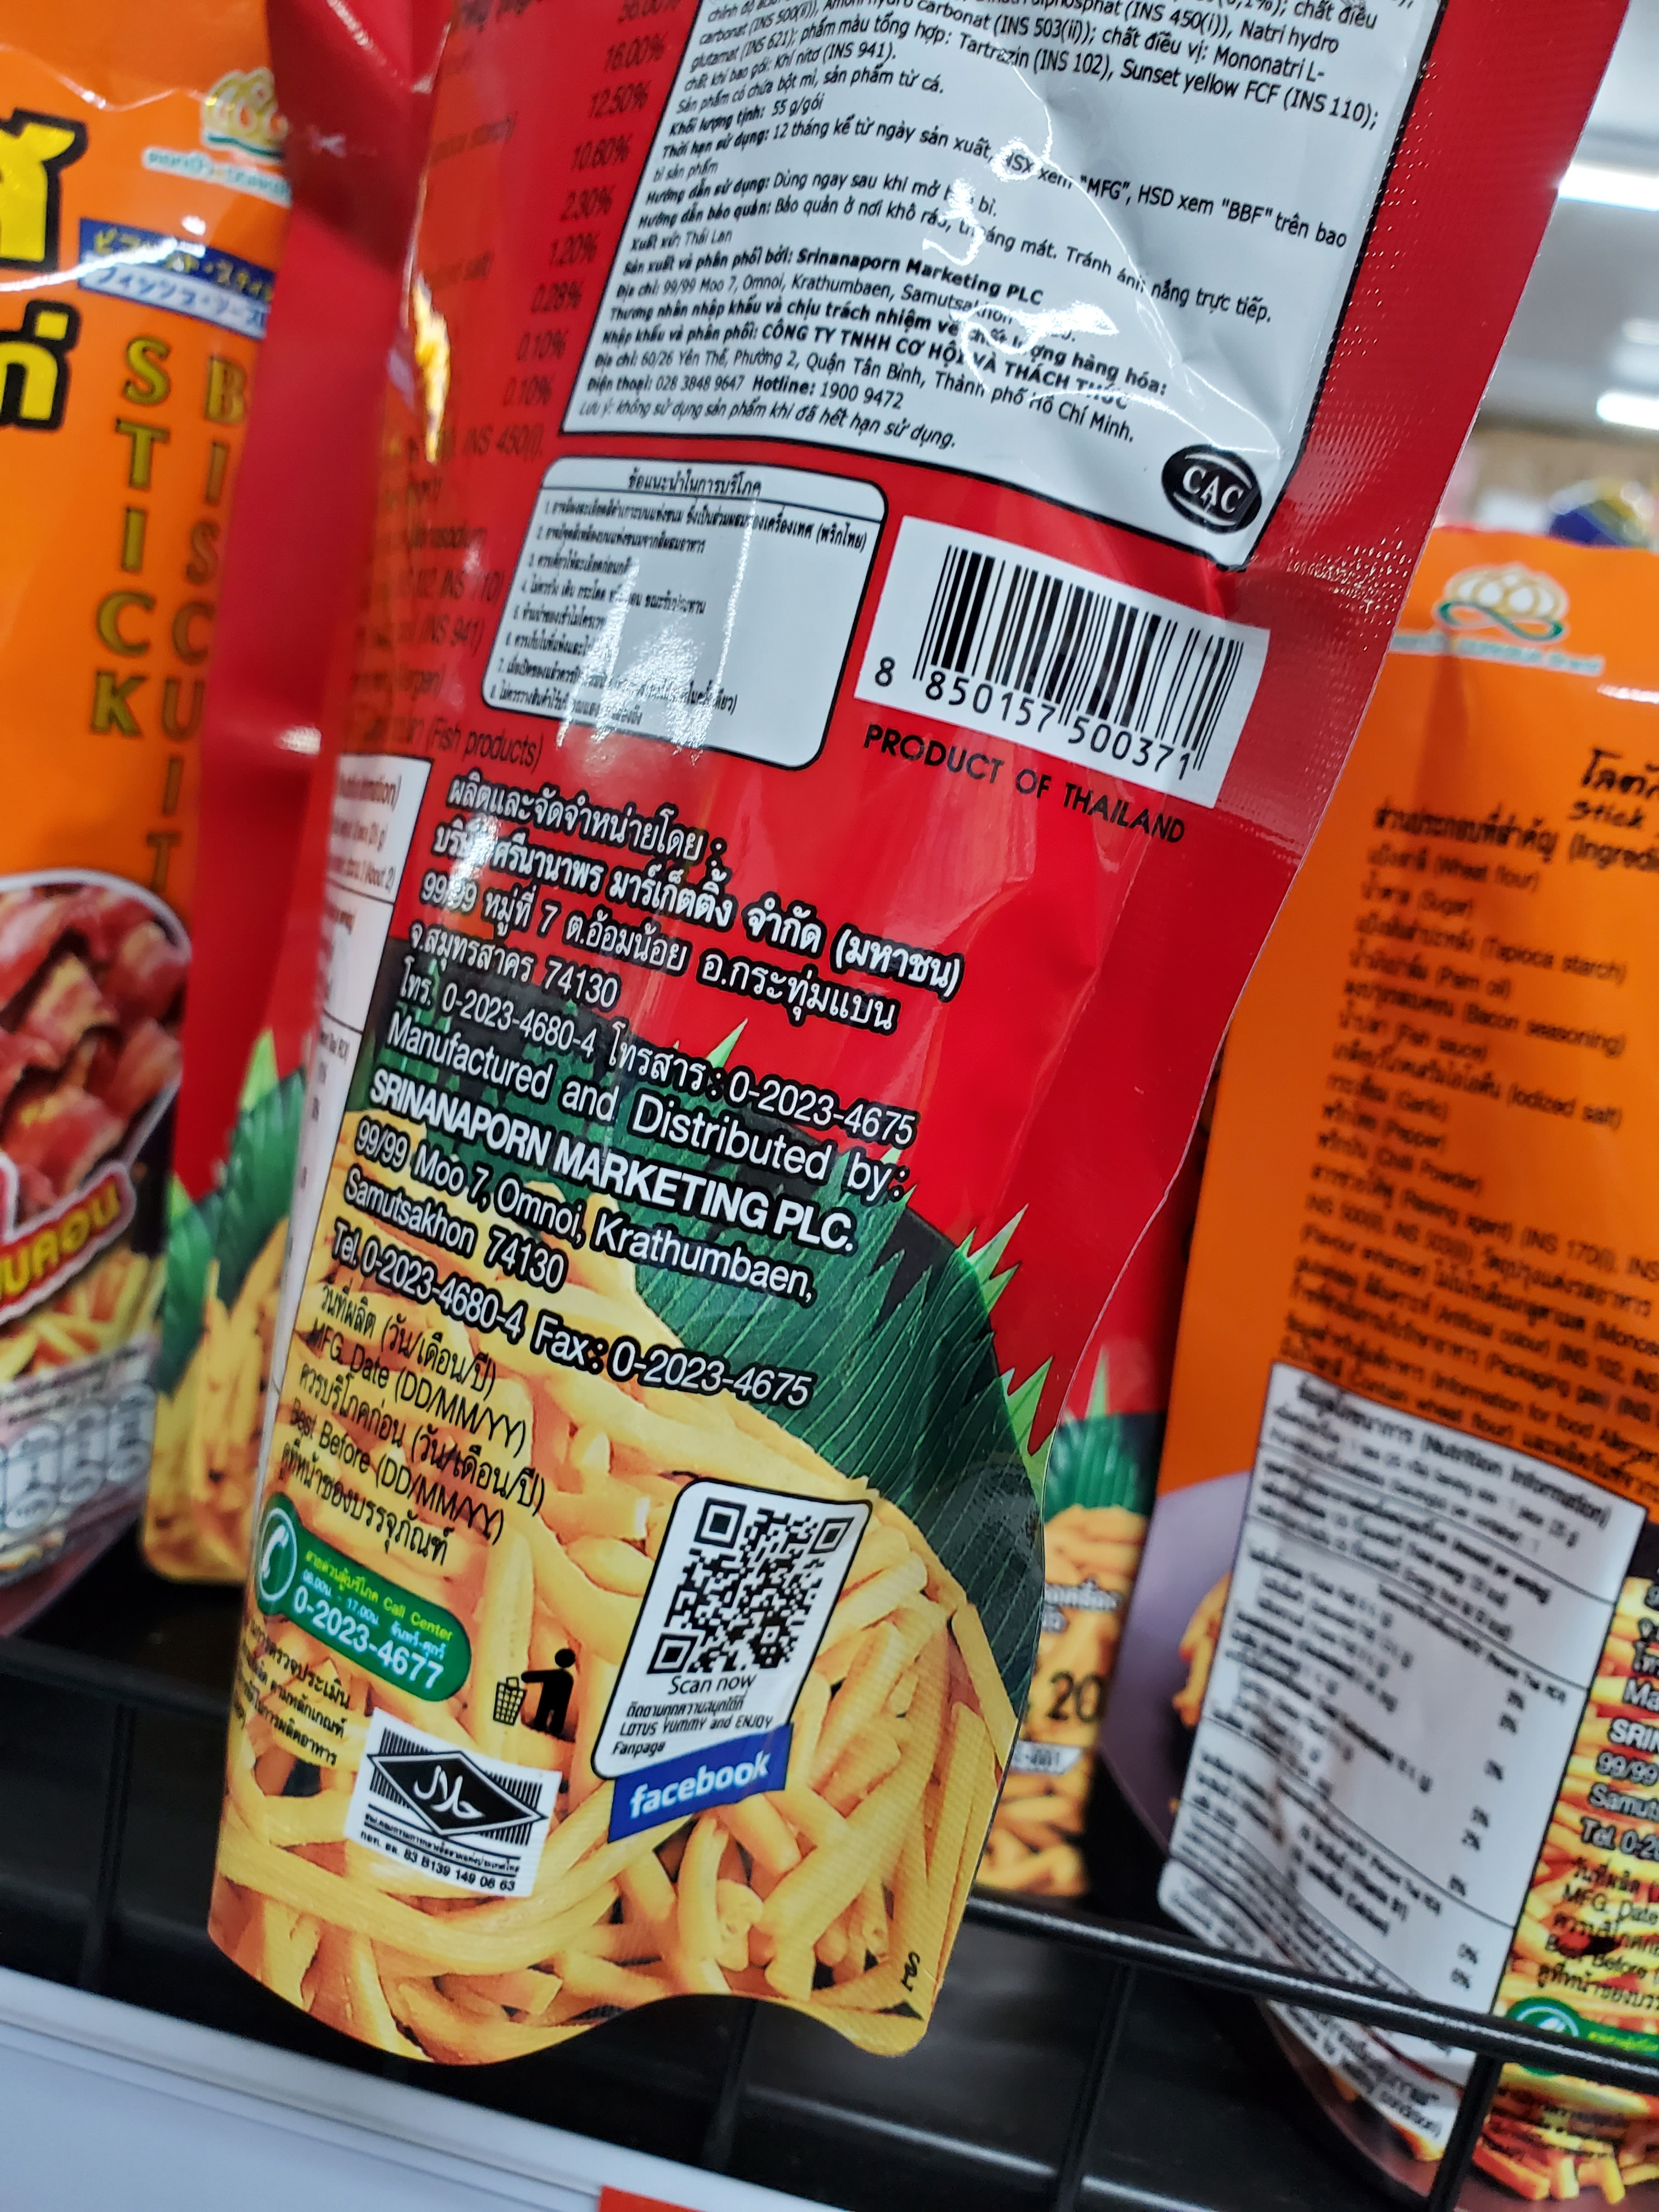barcode: (854, 524, 1279, 820)
qr code: (622, 1480, 877, 1707)
